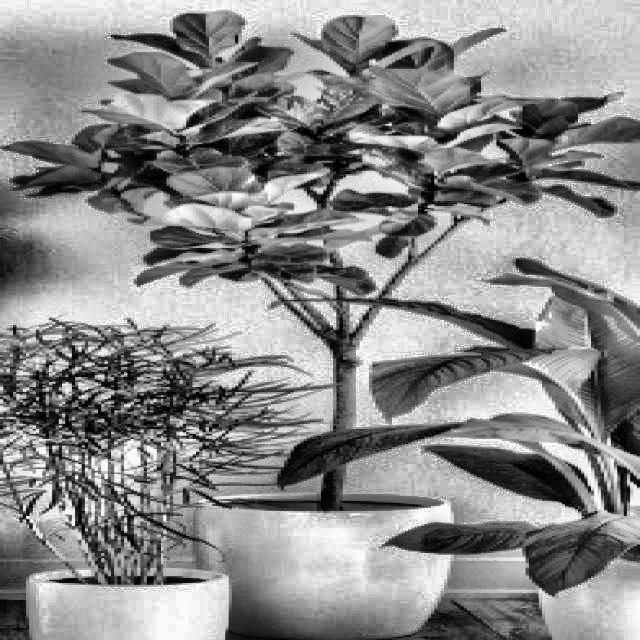plants: (38, 14, 590, 638), (316, 260, 636, 638), (4, 324, 262, 634)
